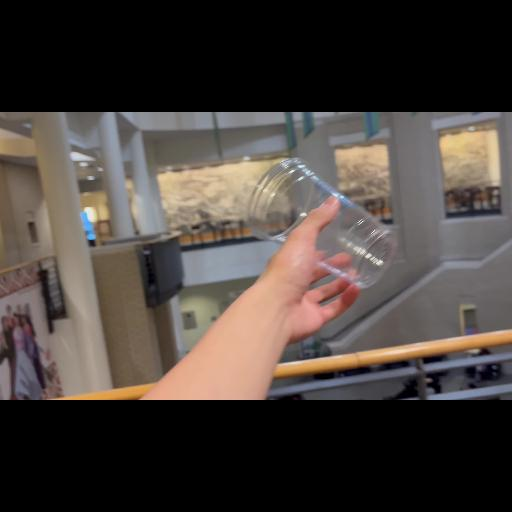lp_plastic_cup: (253, 160, 395, 288)
